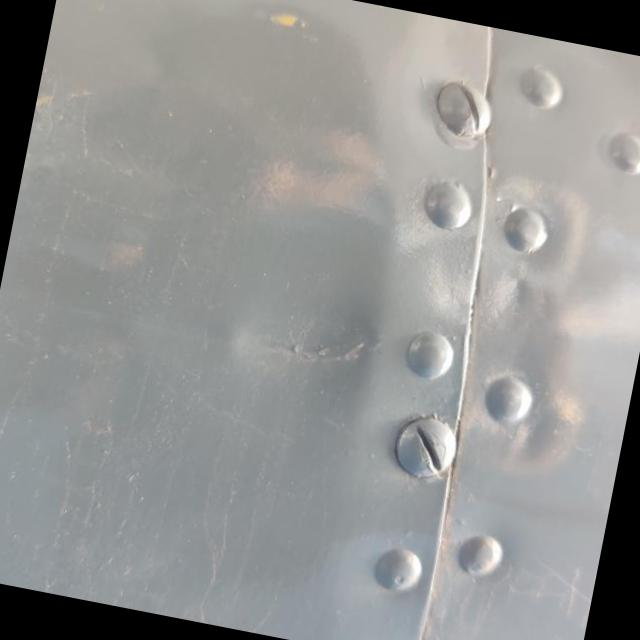Dent: (227, 273, 377, 394)
